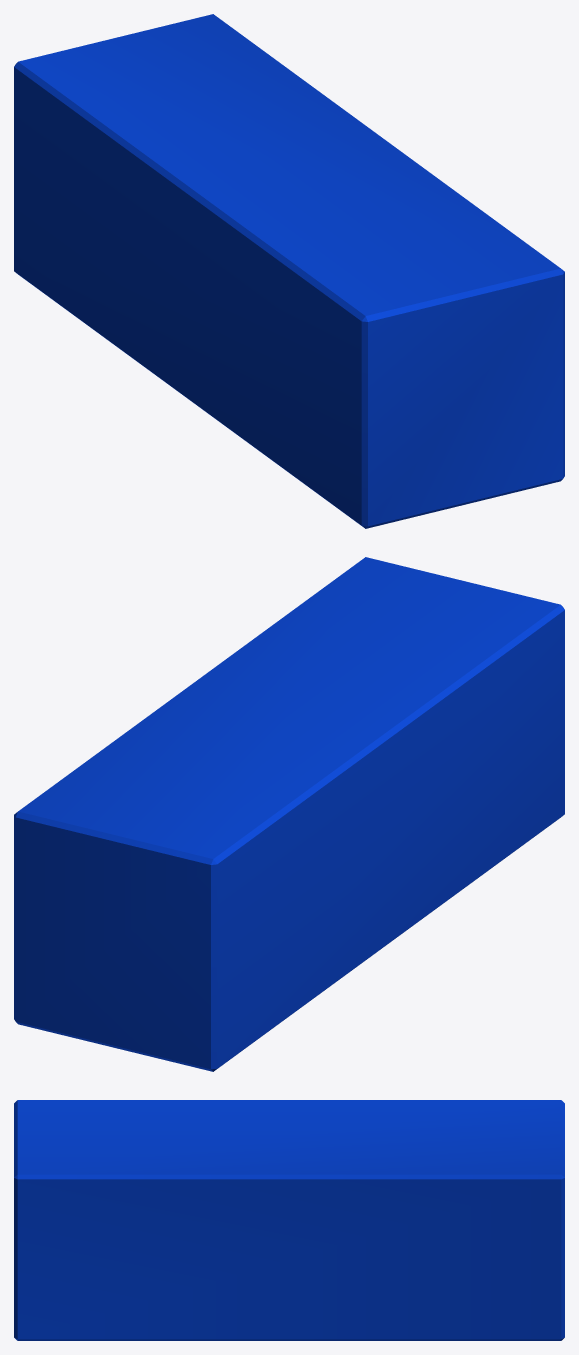
3 renders of one model, top to bottom at view 1: azimuth 30°, elevation 25°; view 2: azimuth 150°, elevation 25°; view 3: azimuth 270°, elevation 25°, orthographic. The views are drawn at different scales.
Parts seen in each view (by area): view 1: Cube.003; view 2: Cube.003; view 3: Cube.003.
Boxes of the visible parts, box(x1,y1,x2,y2) form: Cube.003: box(14, 14, 564, 528); Cube.003: box(14, 557, 564, 1071); Cube.003: box(14, 1100, 564, 1340).
Size of the model in its own units: 100 by 100 by 300.
